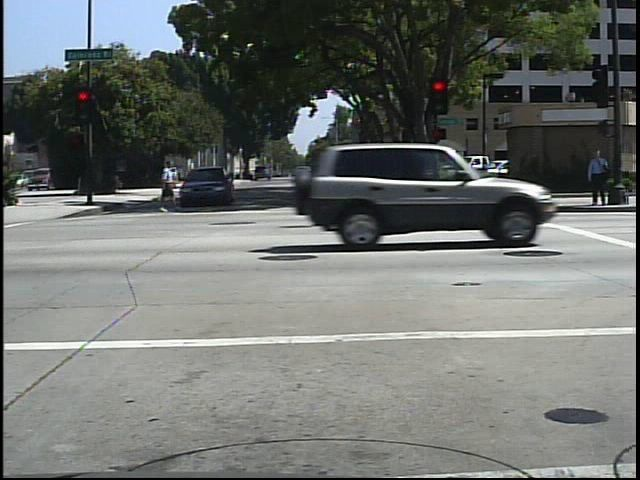person: (150, 155, 181, 213), (586, 143, 613, 209)
